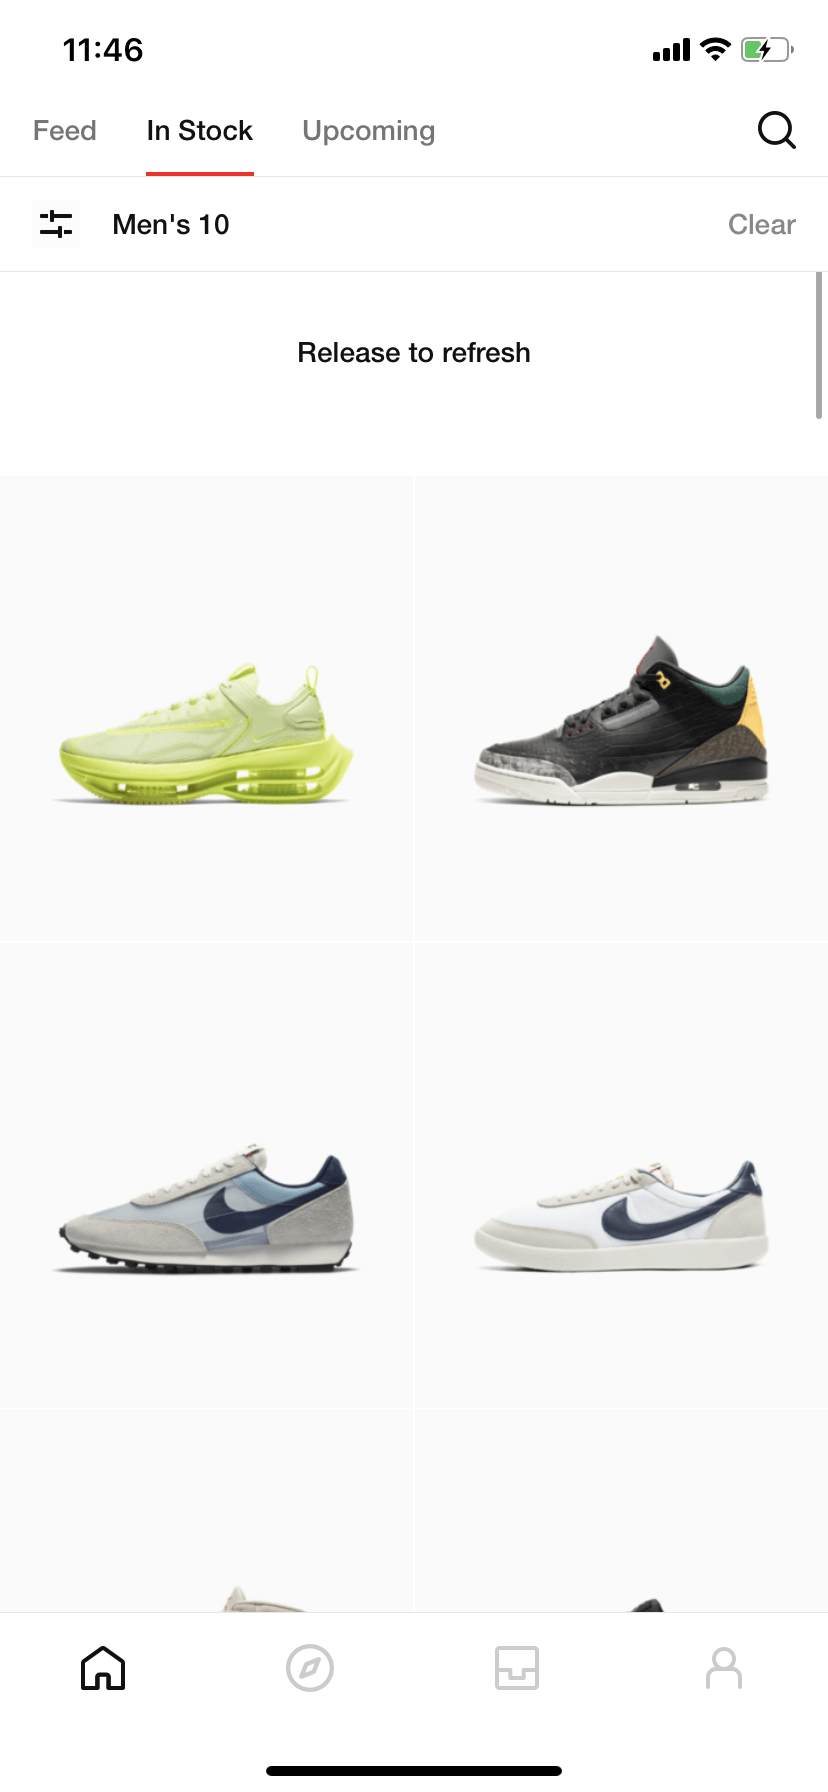Buttons: (696, 185, 818, 261), (735, 89, 817, 166), (18, 184, 93, 258)
